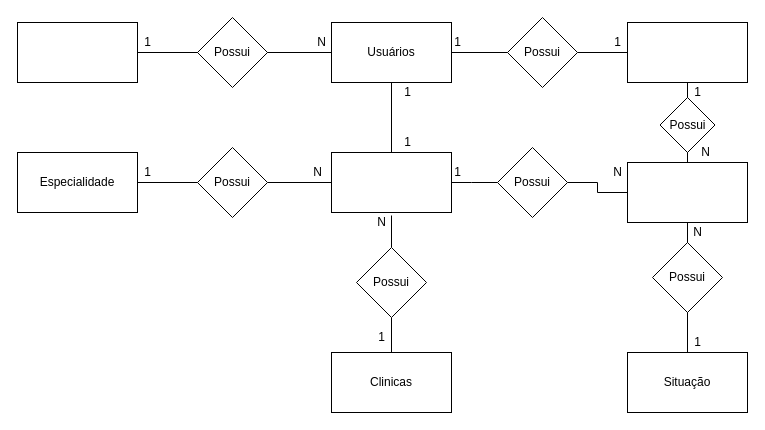
Some shapes in this 765 by 430 pixel diagram are drawn without their labels. The shapes that lost their labels are listed below. From the top down, each one's centre as x and y in pixels, then its label:
At pixel 77 52: "TipoUsuarios".
At pixel 687 52: "Pacientes".
At pixel 391 182: "Médicos".
At pixel 687 192: "Consultas".
